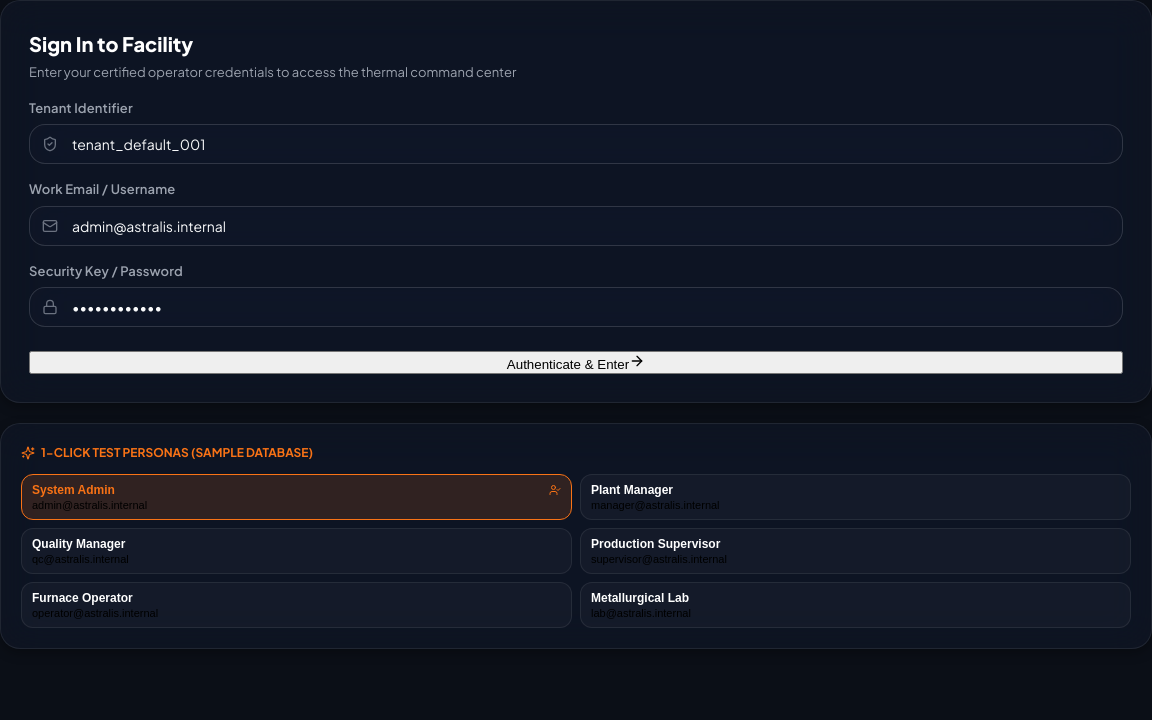
Test: End-to-End Manufacturing ERP Interaction Suite › 1. Authentication & Session Interactions › selects quick demo personas and populates login inputs
Click the button "Production Supervisor supervisor@astralis.internal".
click(656, 544)  # box x1=580 y1=528 x2=1131 y2=574
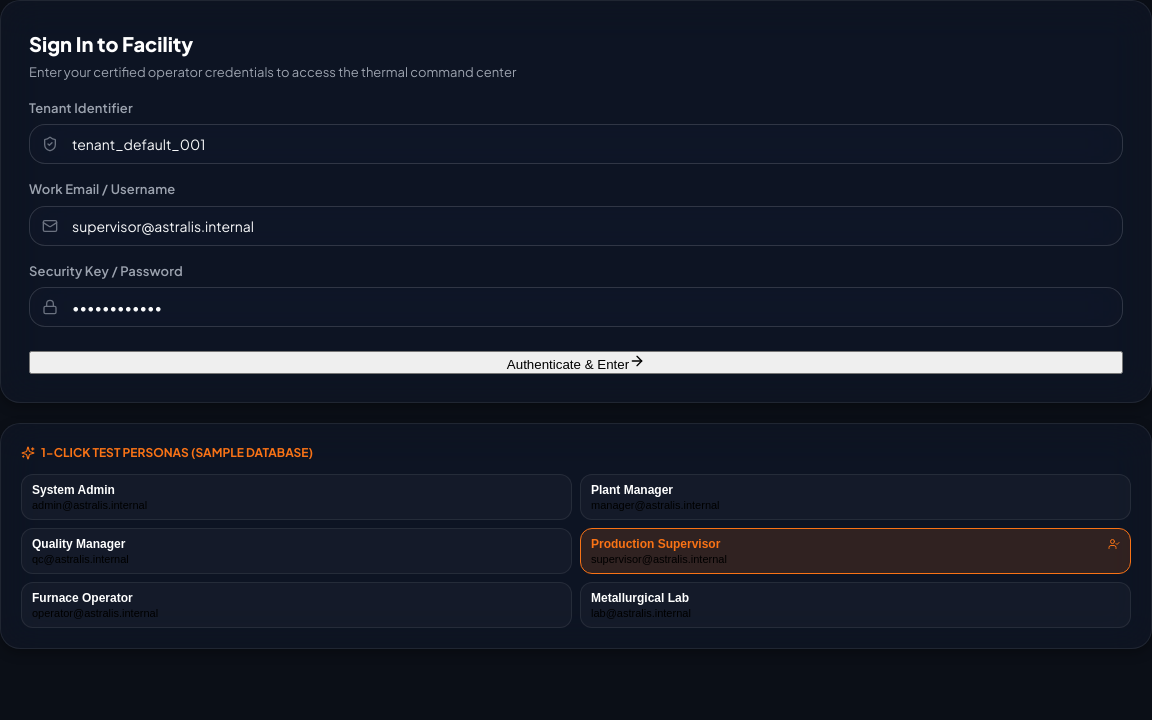
Check: the field with placeholder "admin@astralis.internal" holds "supervisor@astralis.internal", box x1=58 y1=206 x2=1122 y2=244
